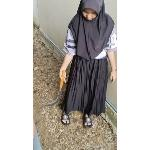Celurit: (41, 68, 69, 108)
